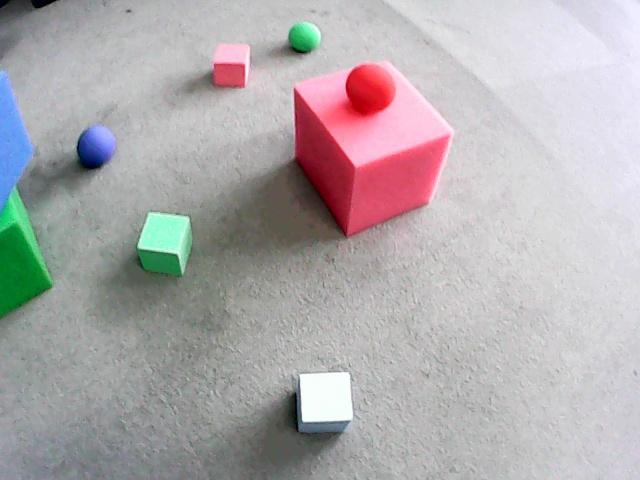blue_block: (0, 71, 33, 211), (297, 372, 352, 432)
red_block: (294, 62, 453, 235), (213, 44, 249, 86)
